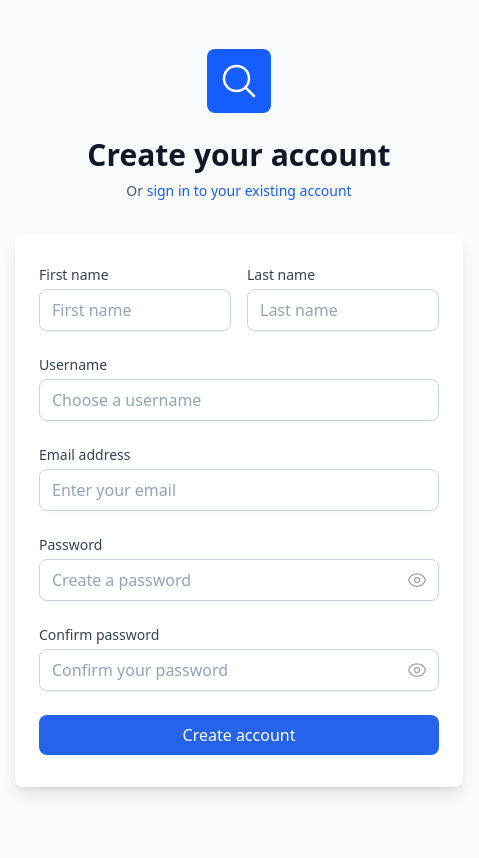
Scenario: RegisterPage › Form Submission › shows server error message on validation failure
The width and height of the screenshot is (479, 858).
# Fill and submit form
Type "John" into the field labelled "First name" at (135, 310), box [39,289,231,331]
Type "Doe" into the field labelled "Last name" at (343, 310), box [247,289,439,331]
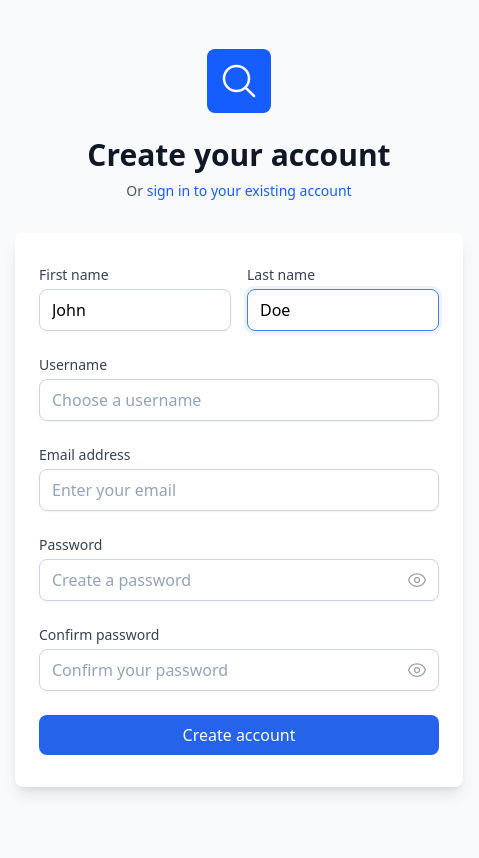
Type "johndoe" into the field labelled "Username" at (239, 400), box [39,379,439,421]
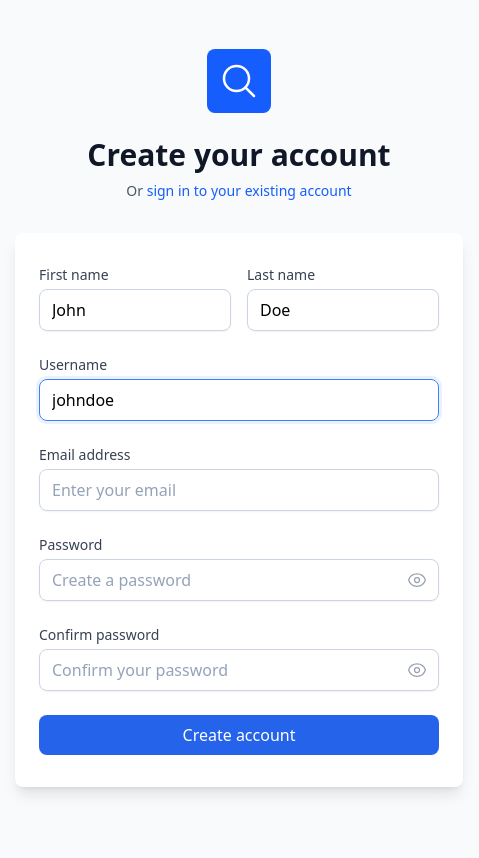
Type "existing@example.com" into the field labelled "Email address" at (239, 490), box [39,469,439,511]
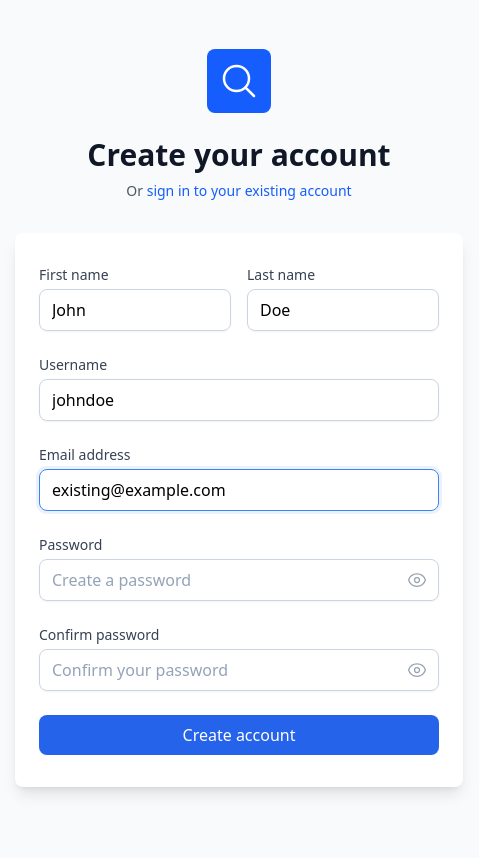
Type "Password123!" into the password field labelled "Password" at (239, 580), box [39,559,439,601]
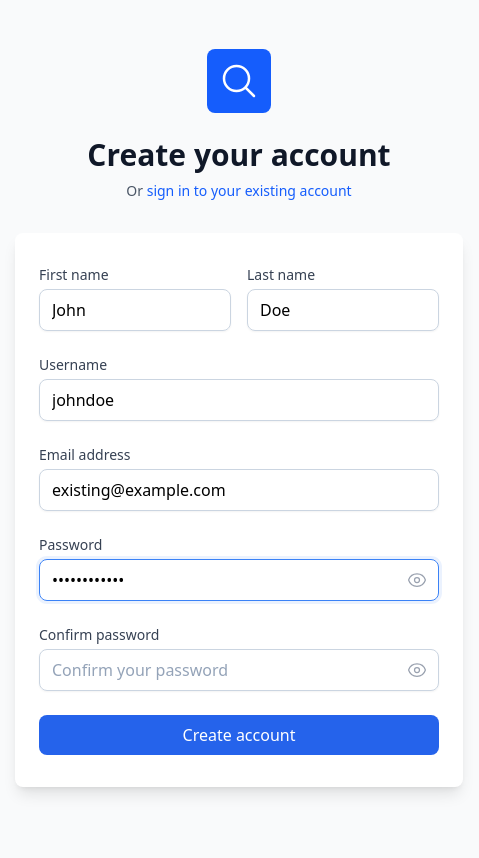
Type "Password123!" into the password field labelled "Confirm password" at (239, 670), box [39,649,439,691]
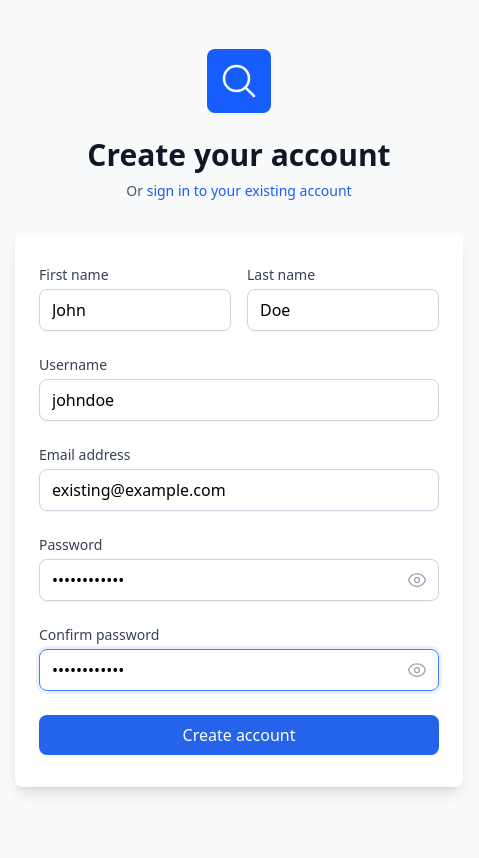
Click the button "Create account" at (239, 735), box [39,715,439,755]
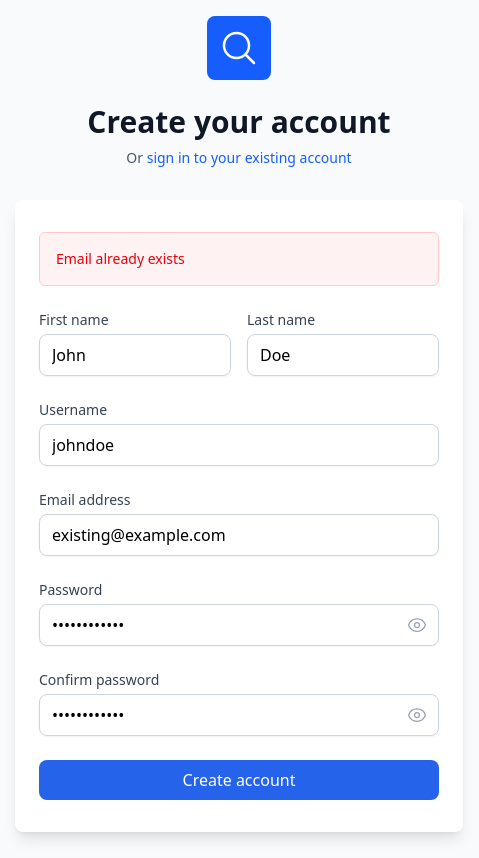
Now the text "Email already exists" is shown, box [56,249,185,268]
